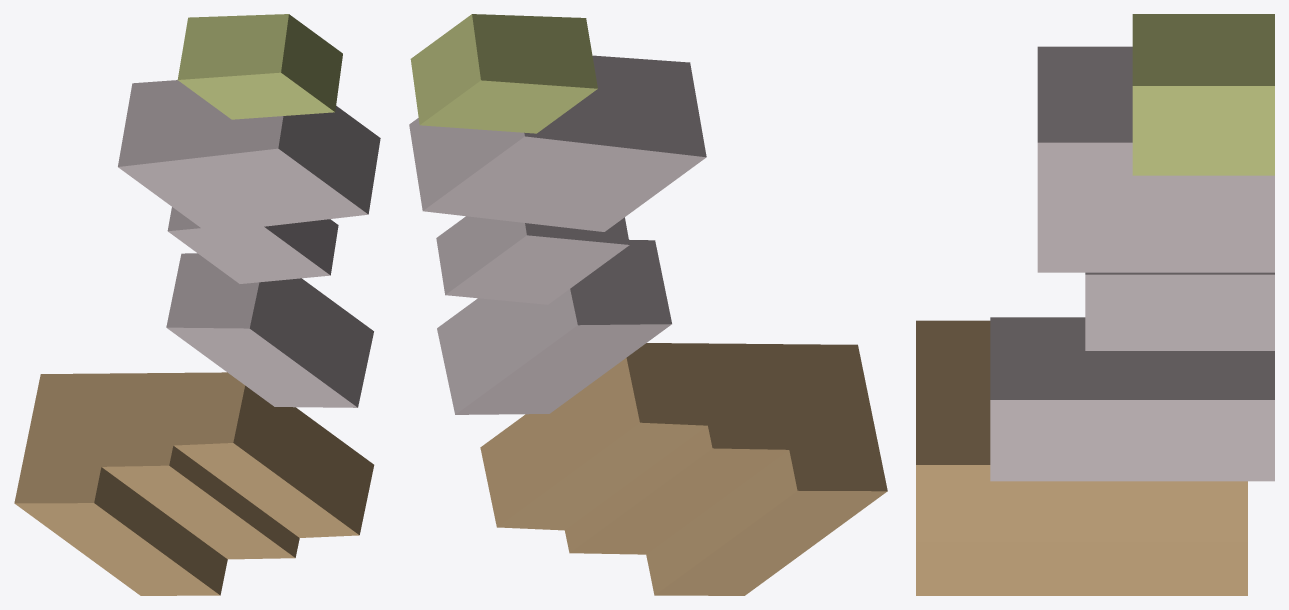
3 views of the same model, side by side, from view 1: azimuth 30°, elevation 25°; view 2: azimuth 150°, elevation 25°; view 3: azimuth 270°, elevation 25° (orthographic). The views are drawn at different scales.
Visible parts, largest first — view 1: 0_3_0_1_1_2_1; view 2: 0_3_0_1_1_2_1; view 3: 0_3_0_1_1_2_1.
Boxes of the visible parts, bbox=[...] form: 0_3_0_1_1_2_1: bbox=[14, 14, 380, 595]; 0_3_0_1_1_2_1: bbox=[409, 14, 887, 595]; 0_3_0_1_1_2_1: bbox=[916, 14, 1274, 595].
Size of the model in its own units: 27.45 by 41.48 by 22.7.
